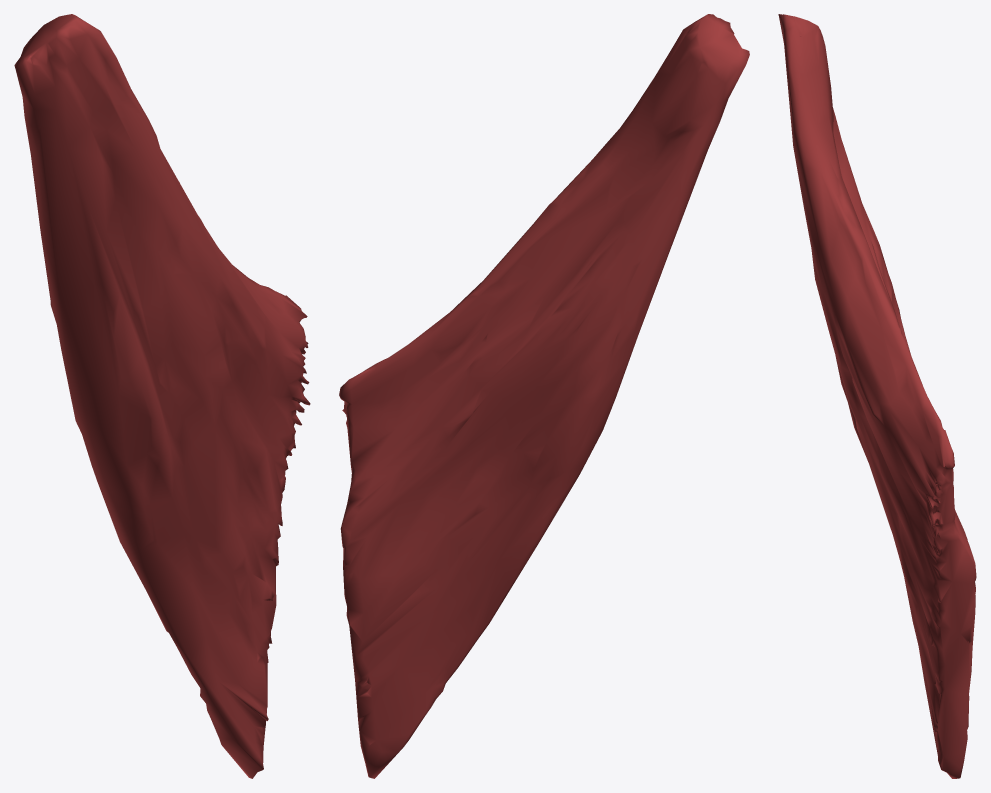
File: adductor-brevis-l.glb
3 views of the same model, side by side, from view 1: azimuth 30°, elevation 25°; view 2: azimuth 150°, elevation 25°; view 3: azimuth 270°, elevation 25° (orthographic). The views are drawn at different scales.
Parts seen in each view (by area): view 1: Adductor brevis.l; view 2: Adductor brevis.l; view 3: Adductor brevis.l.
Boxes of the visible parts, bbox=[...] form: Adductor brevis.l: bbox=[14, 14, 310, 778]; Adductor brevis.l: bbox=[339, 14, 749, 778]; Adductor brevis.l: bbox=[778, 14, 976, 778].
Size of the model in its own units: 0.079 by 0.1763 by 0.0478.
